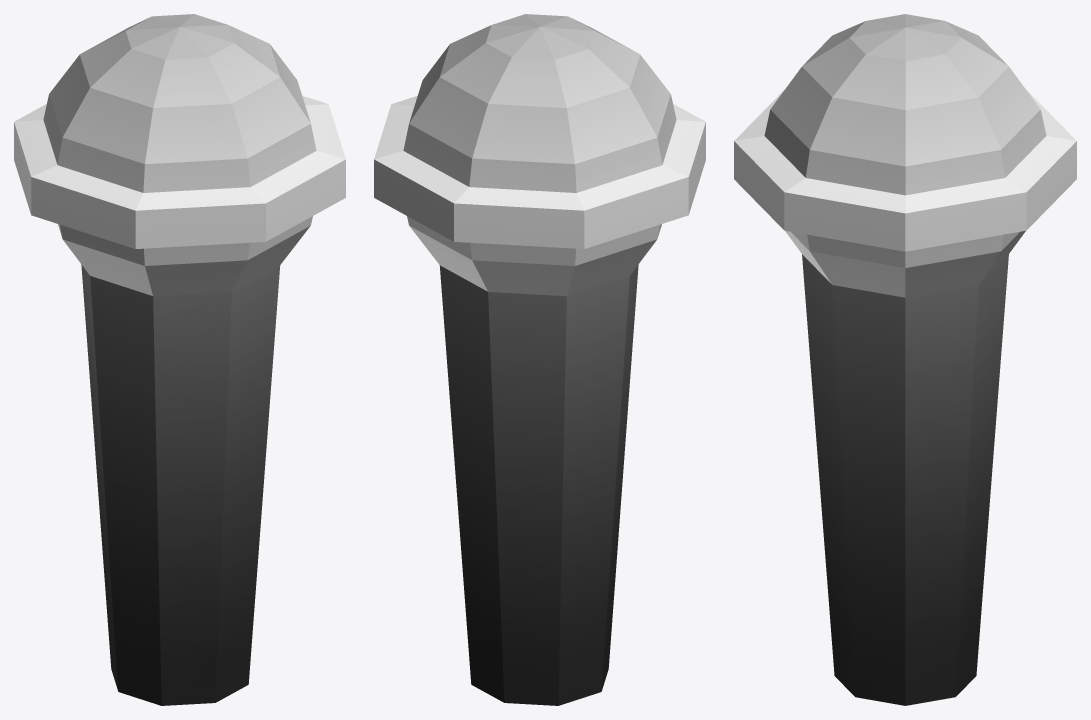
File: microphone.fbx
3 views of the same model, side by side, from view 1: azimuth 30°, elevation 25°; view 2: azimuth 150°, elevation 25°; view 3: azimuth 270°, elevation 25° (orthographic).
Parts seen in each view (by area): view 1: microphone; view 2: microphone; view 3: microphone.
Boxes of the visible parts, bbox=[...] form: microphone: bbox=[14, 14, 345, 705]; microphone: bbox=[374, 14, 705, 705]; microphone: bbox=[734, 14, 1076, 705].
Size of the model in its own units: 234 by 489 by 234.
